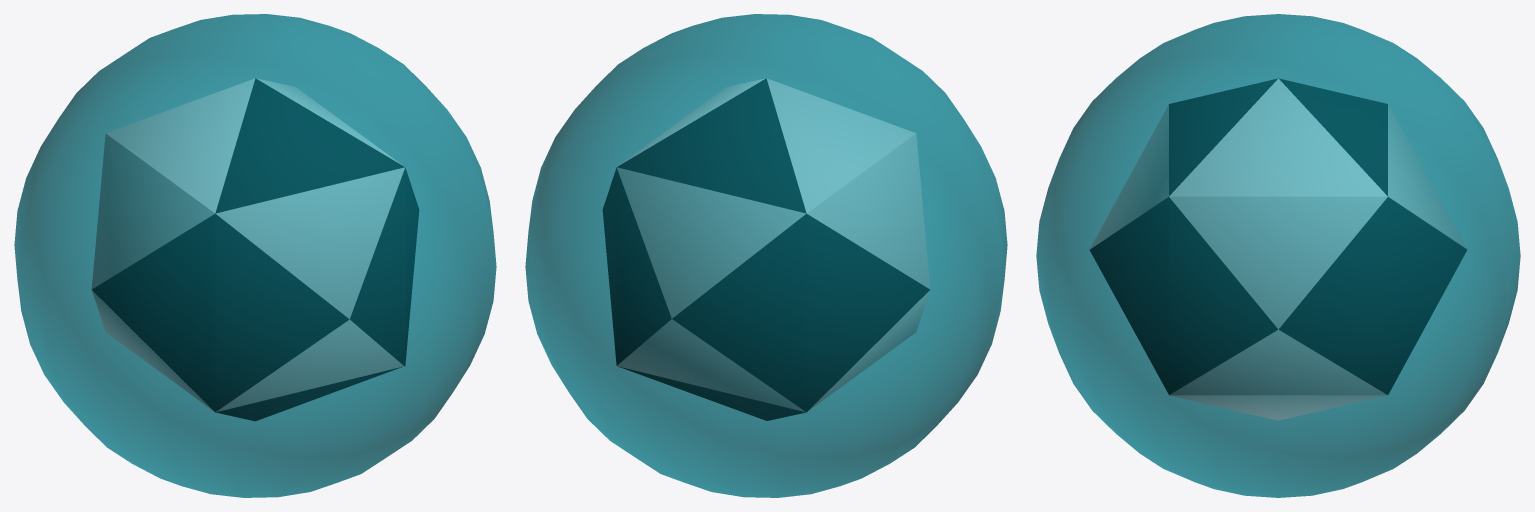
File: Energy orb.fbx
3 views of the same model, side by side, from view 1: azimuth 30°, elevation 25°; view 2: azimuth 150°, elevation 25°; view 3: azimuth 270°, elevation 25° (orthographic).
Visible parts, largest first — view 1: pSphere2, pCube1; view 2: pSphere2, pCube1; view 3: pSphere2, pCube1.
Part boxes in pixels (<box>): pSphere2: <box>14,14,496,497</box>; pCube1: <box>91,78,419,421</box>; pSphere2: <box>525,14,1007,497</box>; pCube1: <box>602,78,930,420</box>; pSphere2: <box>1036,14,1520,497</box>; pCube1: <box>1090,78,1467,420</box>.
Bounding box in the file's own units: 2.21 × 2.21 × 2.21.
